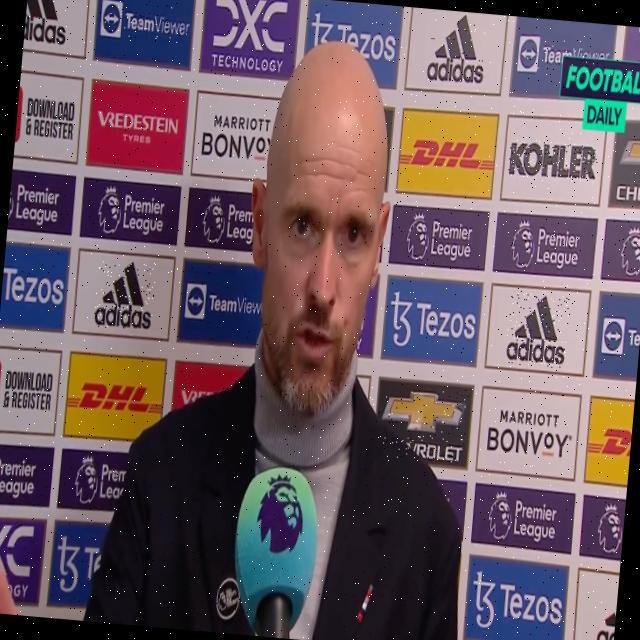Adidas: (504, 290, 571, 369), (424, 13, 490, 87), (93, 258, 157, 332)
Chevrolet: (381, 386, 469, 463)
Kohler: (508, 137, 599, 183)
TeamViewer: (99, 0, 192, 43), (517, 34, 610, 77)
